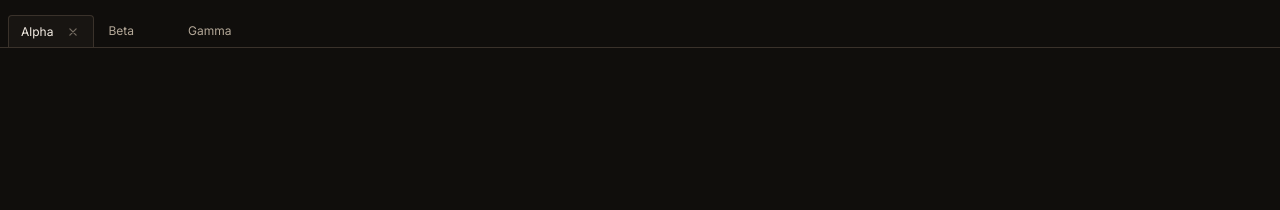
Test: TabBar: pointer extras (v0.0.11) › right-click opens the context menu
Right-click the tab "Beta" at [117, 31], box [96,15,138,47]
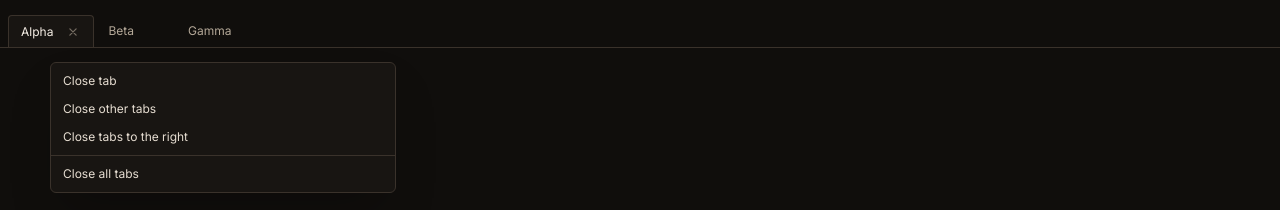
expect the menu is shown: met, box [50,62,396,193]
expect the menu item "Close tab" is shown: met, box [51,67,395,95]
